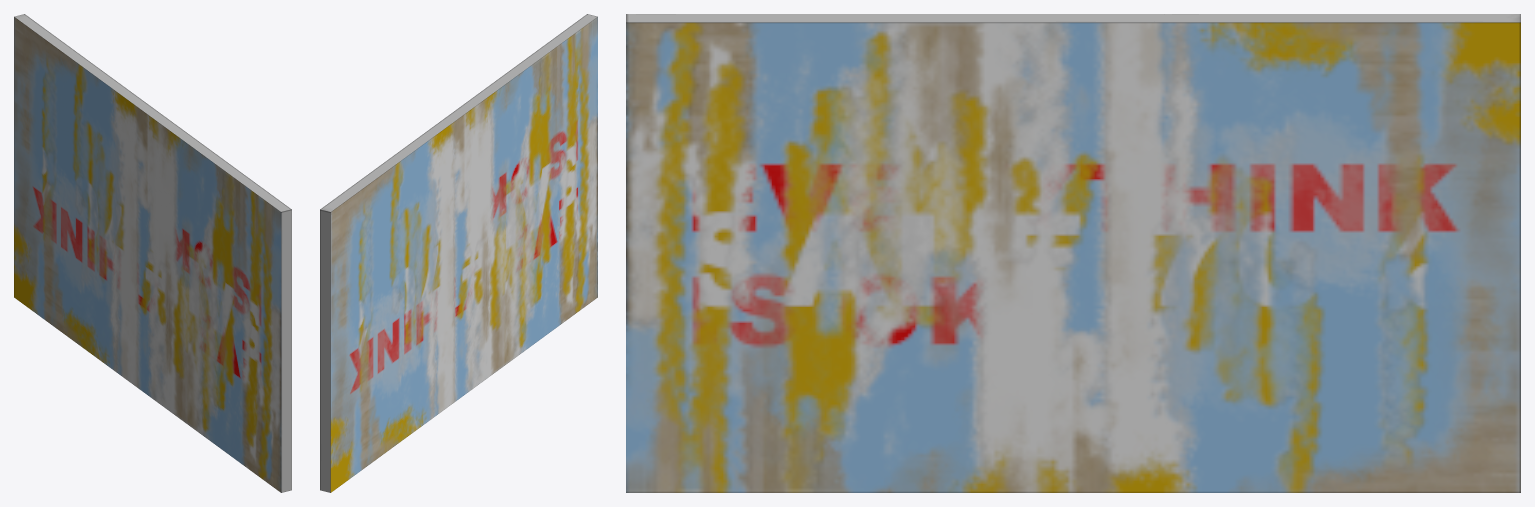
File: billboard.FBX
The picture shows the model from 3 angles, left to right: view 1: azimuth 30°, elevation 25°; view 2: azimuth 150°, elevation 25°; view 3: azimuth 270°, elevation 25°; orthographic projection. The views are drawn at different scales.
Visible parts, largest first — view 1: Object004, Box122, Object005; view 2: Object004, Box122, Object005; view 3: Object004, Box122, Object005.
Boxes of the visible parts, x1,y1,x2,y2 form: Object004: (108,94,291,424); Box122: (14,14,133,360); Object005: (101,253,291,492); Object004: (425,14,597,309); Box122: (320,129,436,492); Object005: (417,229,597,428); Object004: (626,14,1189,375); Box122: (1152,14,1520,492); Object005: (626,304,1213,492).
Size of the model in its own units: 3.88 by 96.84 by 167.
